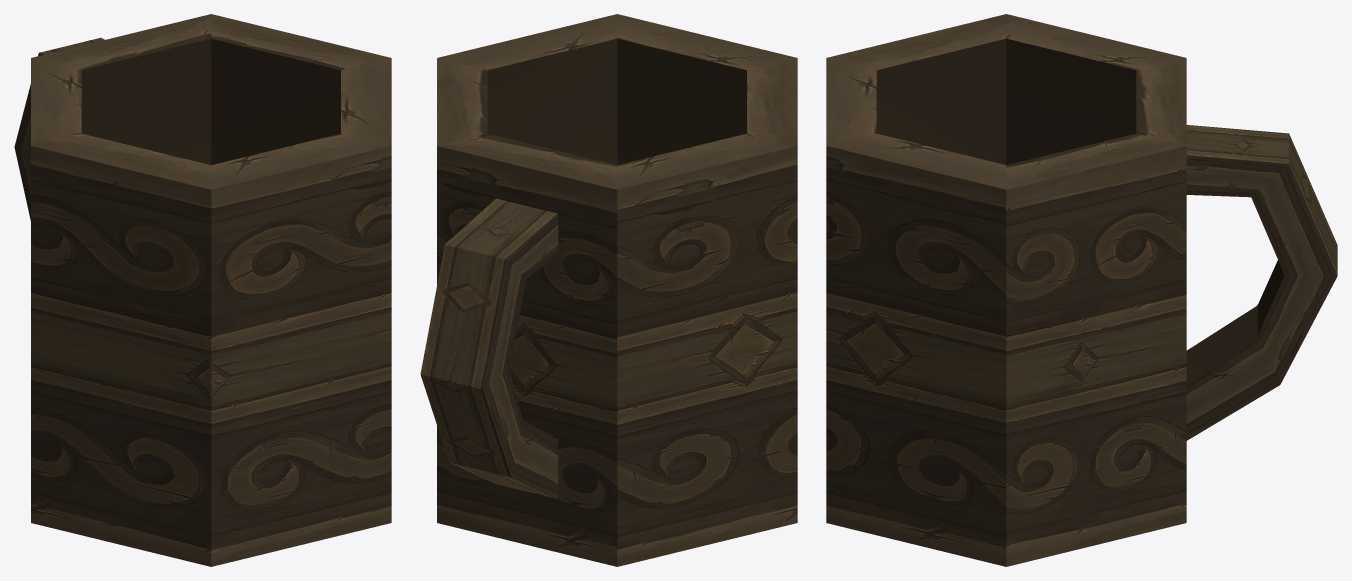
The model's file is Item_Cup_01.fbx.
3 renders of one model, left to right at view 1: azimuth 30°, elevation 25°; view 2: azimuth 150°, elevation 25°; view 3: azimuth 270°, elevation 25°, orthographic.
Parts seen in each view (by area): view 1: SM_Item_Cup_01; view 2: SM_Item_Cup_01; view 3: SM_Item_Cup_01.
Boxes of the visible parts, bbox=[...] form: SM_Item_Cup_01: bbox=[14, 14, 391, 566]; SM_Item_Cup_01: bbox=[420, 14, 797, 566]; SM_Item_Cup_01: bbox=[826, 14, 1337, 566].
Size of the model in its own units: 13.91 by 13.91 by 17.1.
